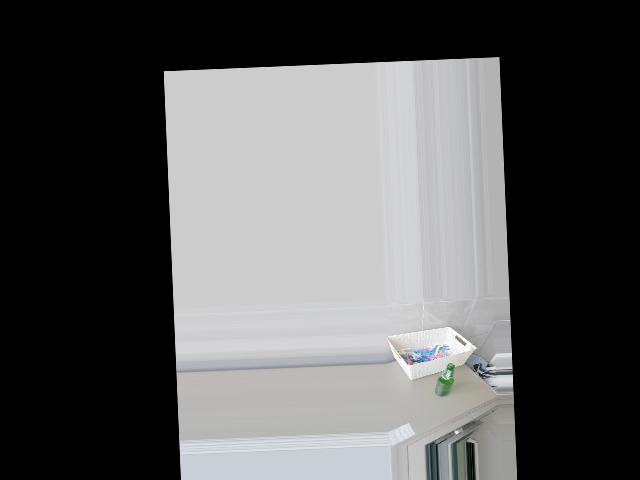beer: (433, 363, 456, 397)
